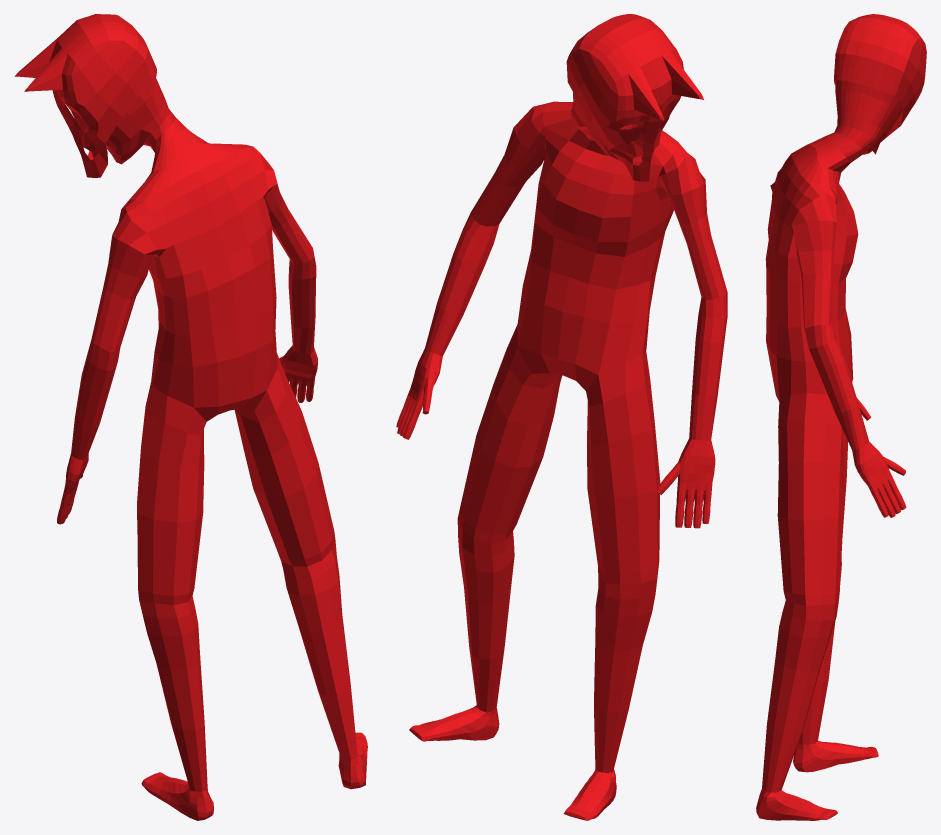
Rendered from reposoE_000263.obj.
3 renders of one model, left to right at view 1: azimuth 30°, elevation 25°; view 2: azimuth 150°, elevation 25°; view 3: azimuth 270°, elevation 25°, orthographic. The views are drawn at different scales.
Visible parts, largest first — view 1: Plane.002_Plane.001; view 2: Plane.002_Plane.001; view 3: Plane.002_Plane.001.
Boxes of the visible parts, bbox=[...] form: Plane.002_Plane.001: bbox=[14, 14, 367, 820]; Plane.002_Plane.001: bbox=[396, 14, 727, 820]; Plane.002_Plane.001: bbox=[756, 14, 926, 820].
Size of the model in its own units: 2.89 by 6.97 by 1.49.
